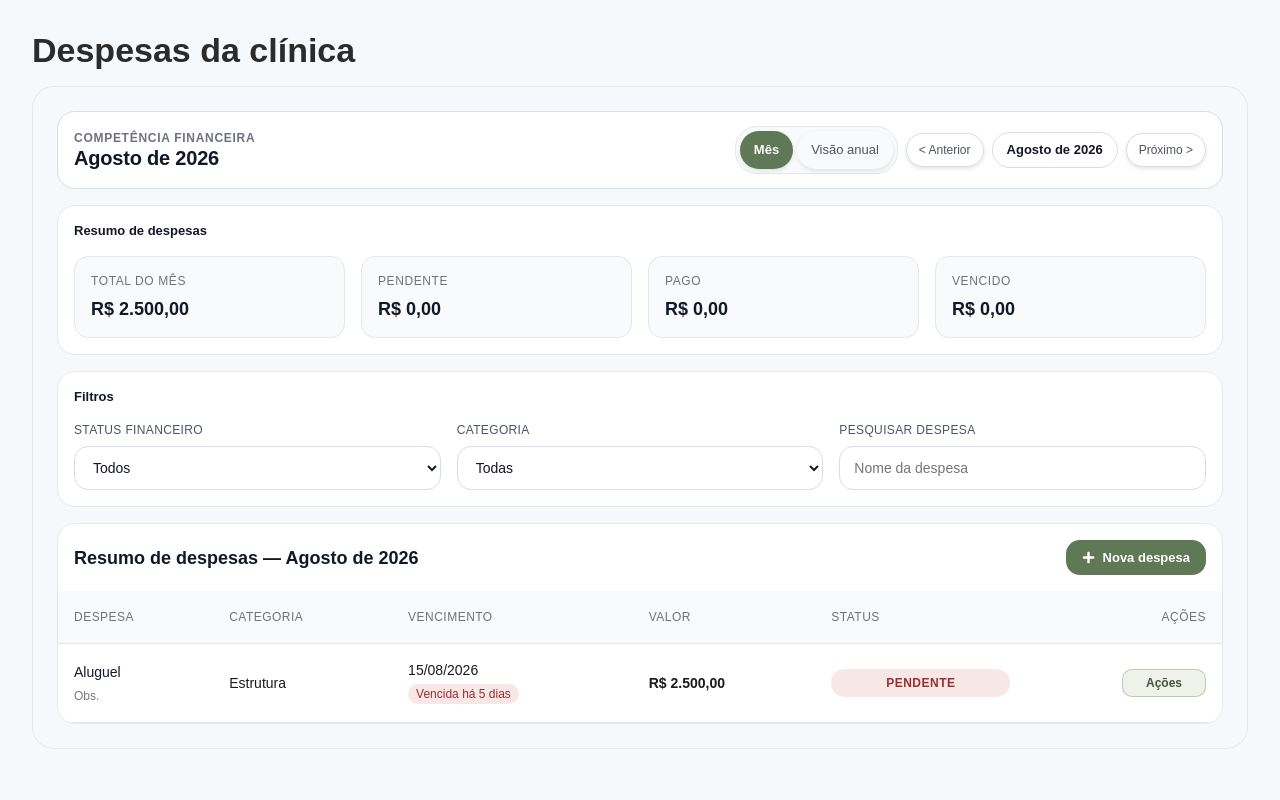
it: Financeiro - caracterização de despesas e configurações publicadas › exige confirmação, permite cancelar e recarrega lista e resumo após excluir
Check: the text "Aluguel" is shown, box [74,664,121,680]
Check: the text "R$ 2.500,00" below "Total do mês" is shown, box [91,299,189,319]
What coordinates should you click on to do the following:
click the heading "Ações"
I would click on:
 (1164, 683)
Its box is [1122,669,1206,697].
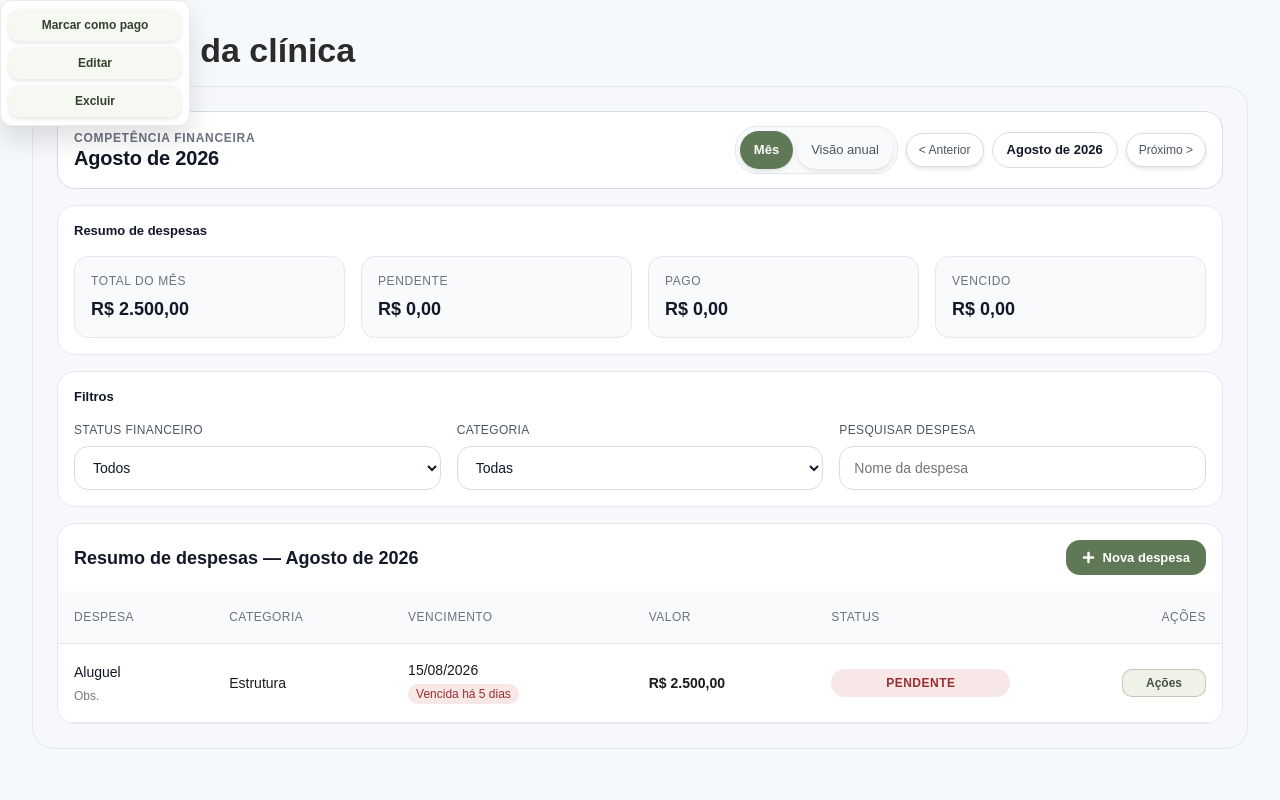
What coordinates should you click on to do the following:
click the button "Excluir"
I would click on:
 (95, 101)
Its box is [9,85,181,117].
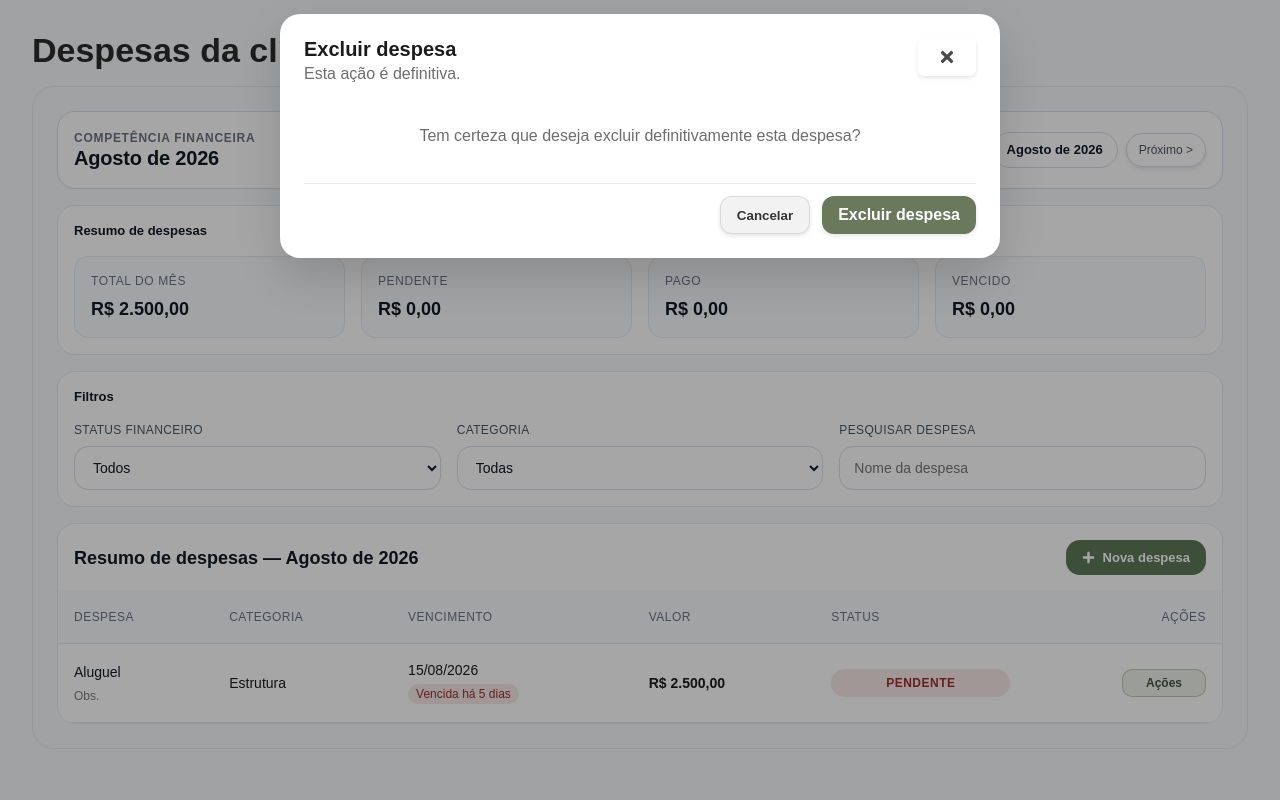
Check: the text "Esta ação é definitiva." is shown, box [304,65,460,83]
Check: the text "Tem certeza que deseja excluir definitivamente esta despesa?" is shown, box [419,127,860,144]
What coordinates should you click on to do the following:
click the button "Cancelar"
I would click on:
 (765, 215)
Its box is [720,196,810,234].
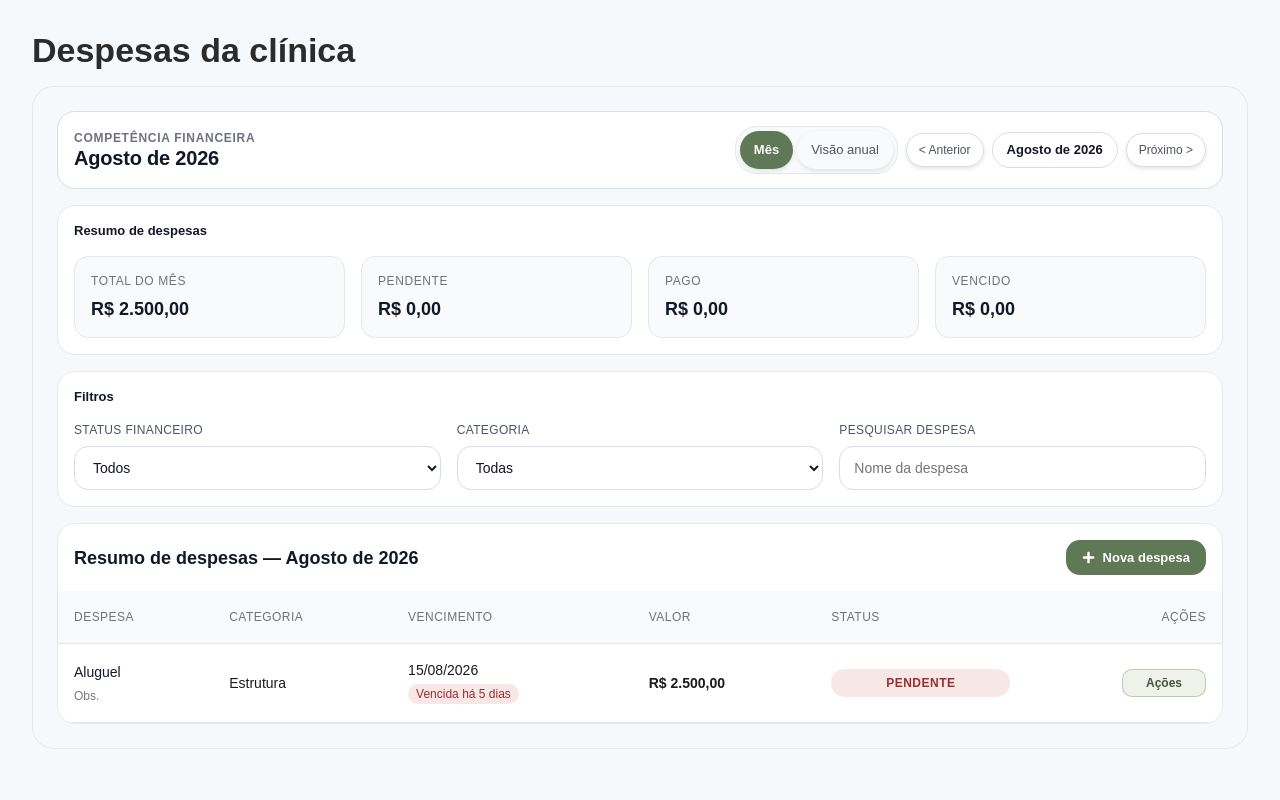
Check: the heading "Excluir despesa" is gone
What coordinates should you click on to do the following:
click the heading "Ações"
I would click on:
 (1164, 683)
Its box is [1122,669,1206,697].
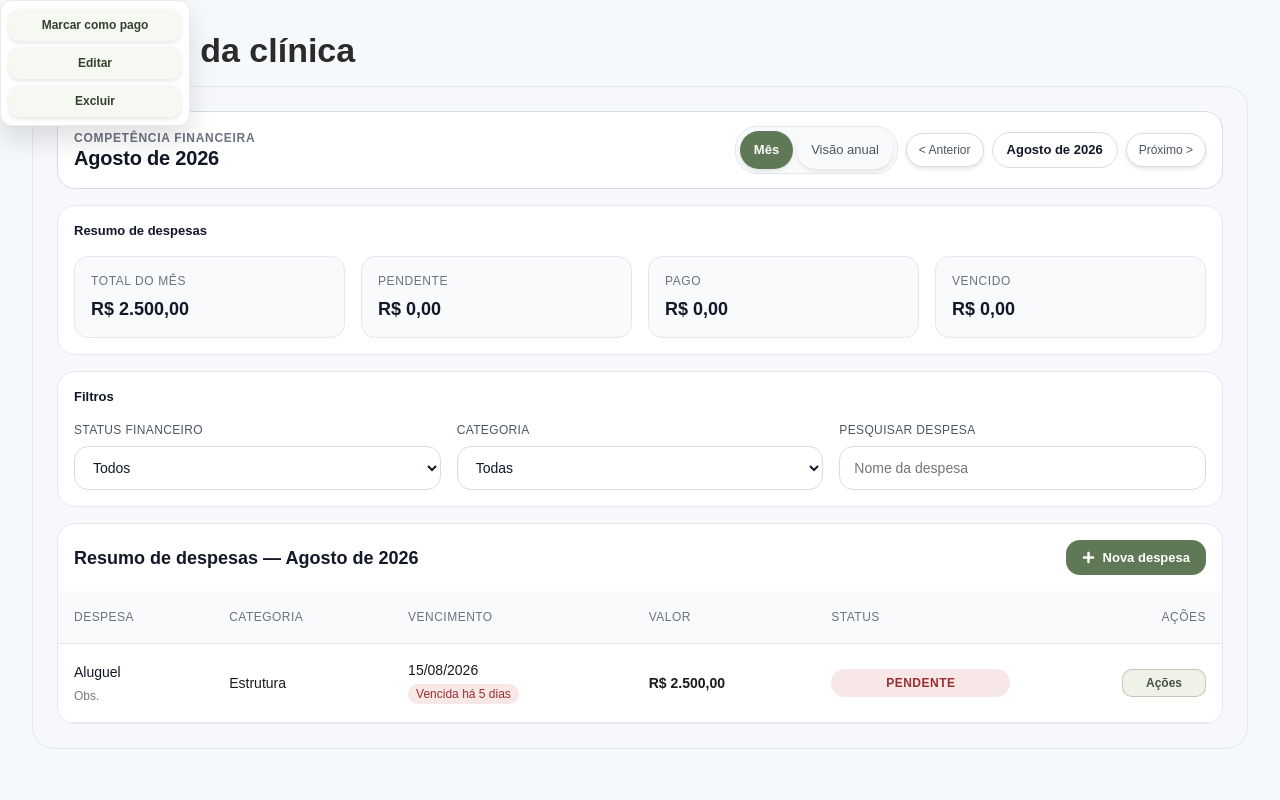
What coordinates should you click on to do the following:
click the button "Excluir"
I would click on:
 (95, 101)
Its box is [9,85,181,117].
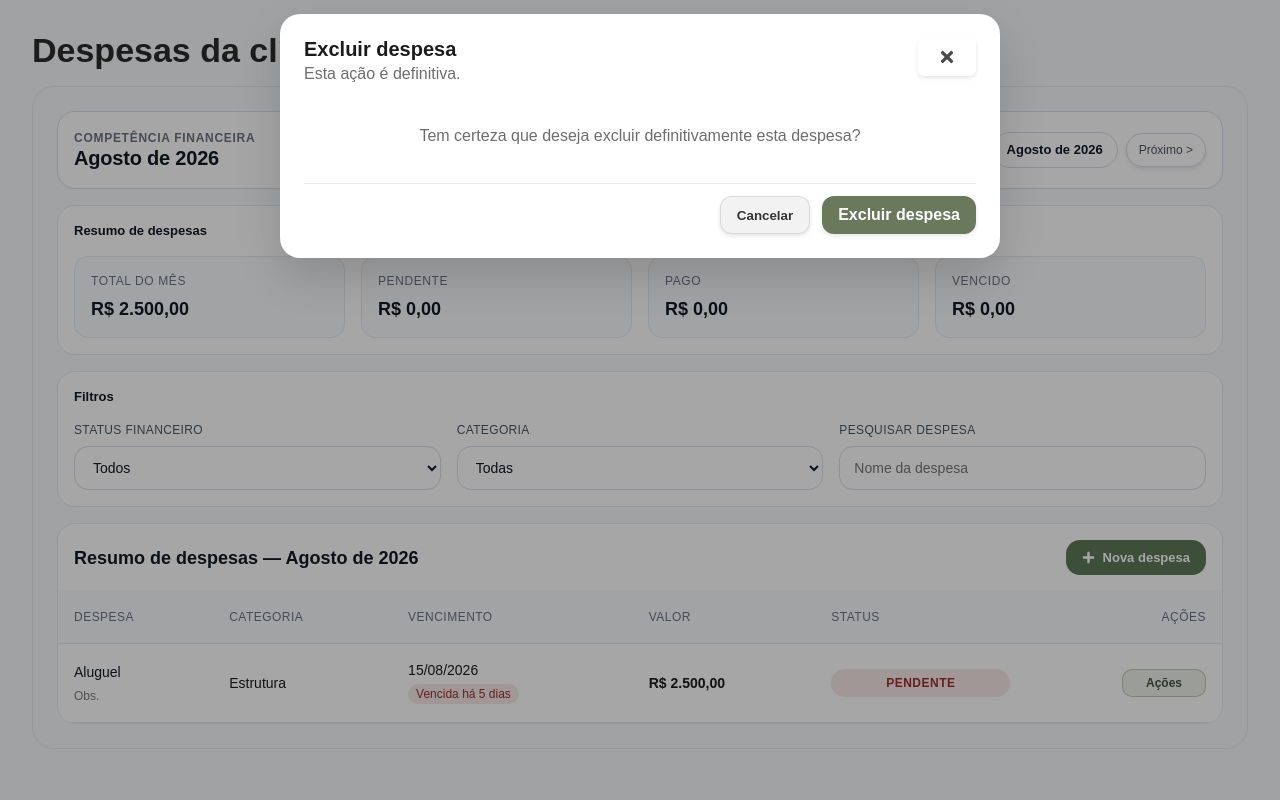
What coordinates should you click on to do the following:
click the button "Excluir despesa"
I would click on:
 (899, 215)
Its box is [822,196,976,234].
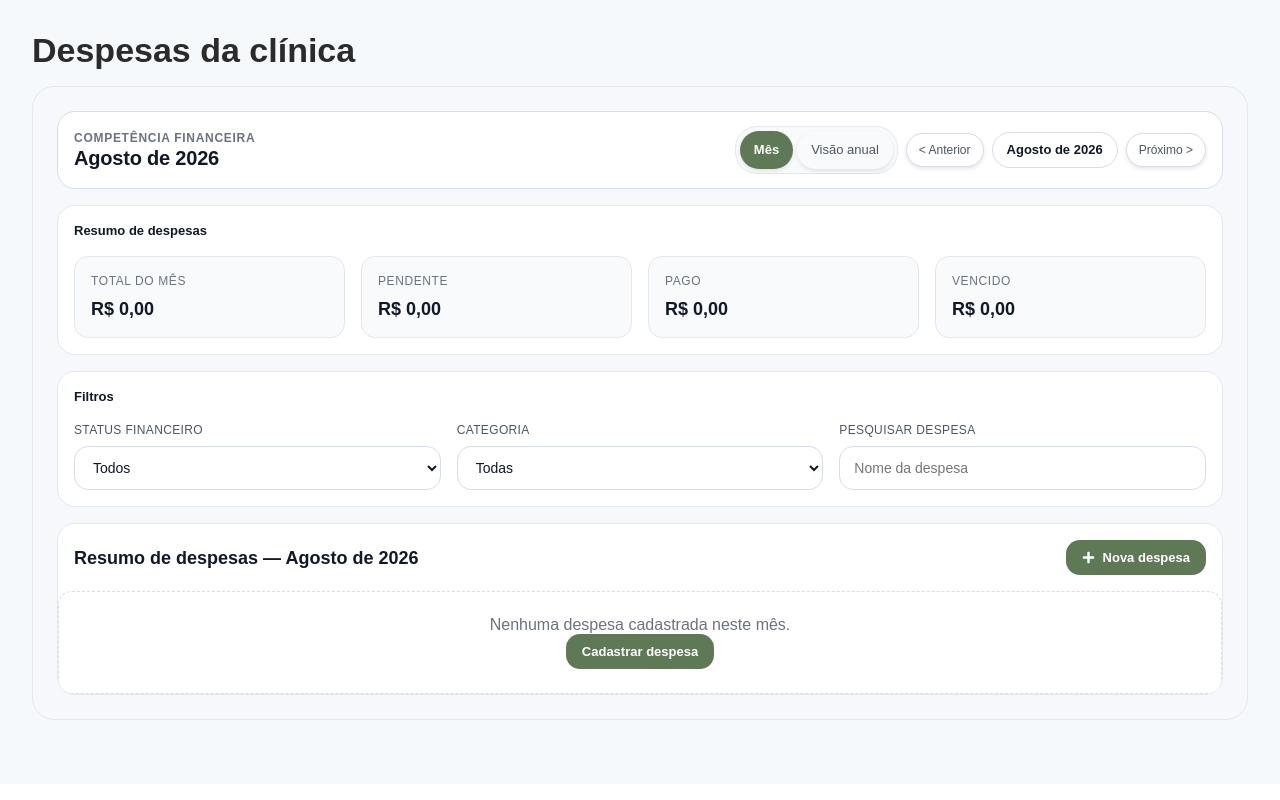
Check: the text "Aluguel" is gone
Check: the text "Nenhuma despesa cadastrada neste mês." is shown, box [490,616,790,633]
Check: the text "R$ 0,00" below "Total do mês" is shown, box [91,299,154,319]
